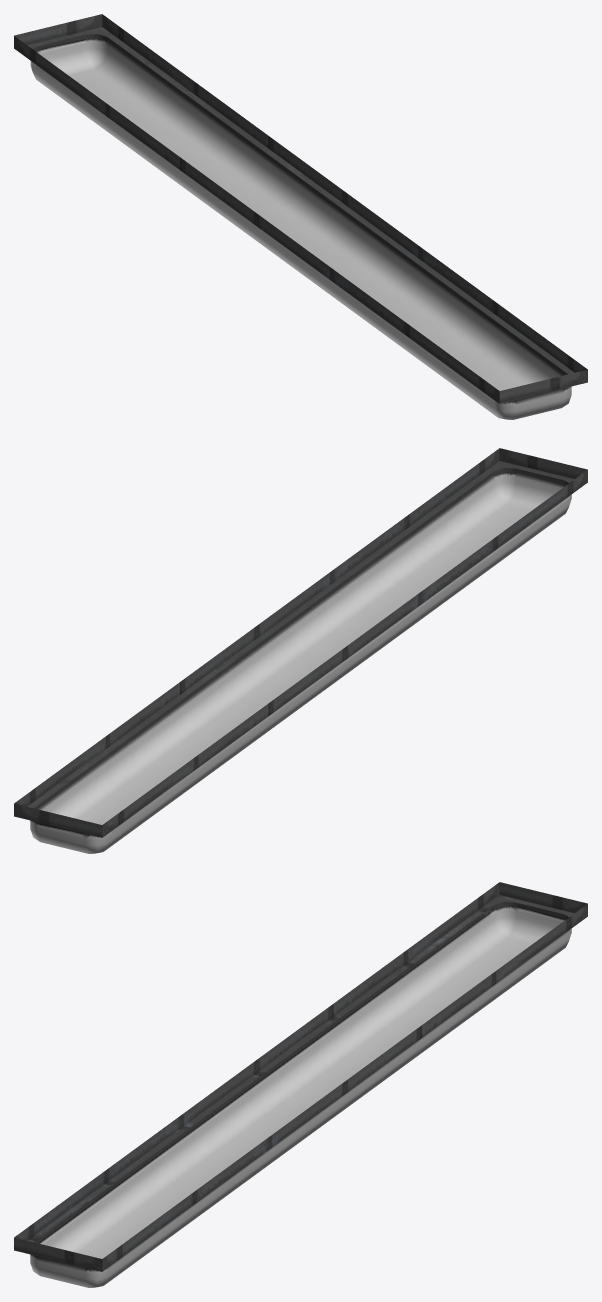
Rendered from CP_Ceiling_Lamp_02.fbx.
The picture shows the model from 3 angles, top to bottom: view 1: azimuth 30°, elevation 25°; view 2: azimuth 150°, elevation 25°; view 3: azimuth 330°, elevation 25°; orthographic projection.
Visible parts, largest first — view 1: CP_Ceiling_Lamp_02; view 2: CP_Ceiling_Lamp_02; view 3: CP_Ceiling_Lamp_02.
Part boxes in pixels (x1,y1,x2,y2): CP_Ceiling_Lamp_02: [14, 14, 587, 419]; CP_Ceiling_Lamp_02: [14, 448, 587, 853]; CP_Ceiling_Lamp_02: [14, 882, 587, 1287].
Bounding box in the file's own units: 15.64 × 7.16 × 149.
